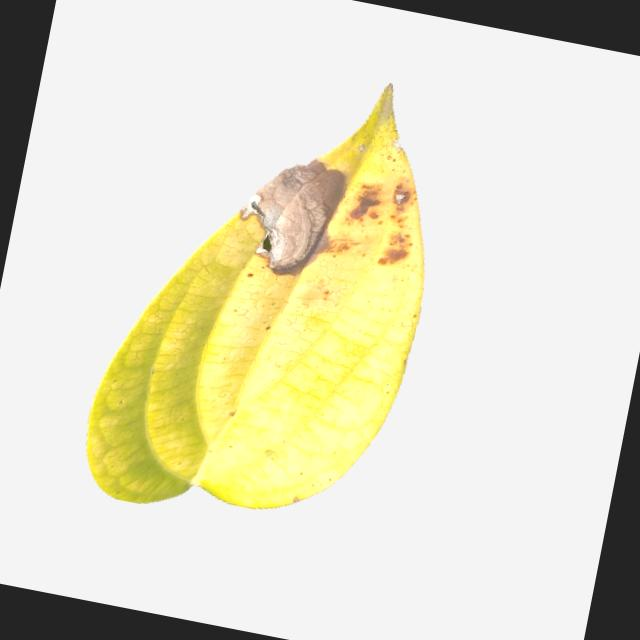leaf-blight: (67, 36, 468, 543)
